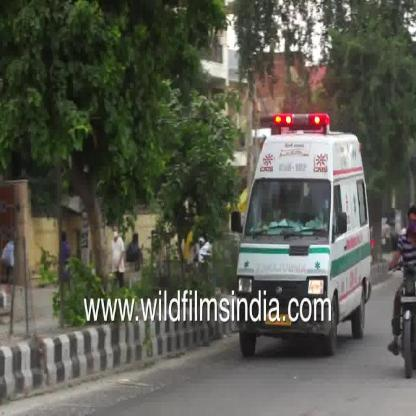priority: (217, 106, 384, 296), (229, 315, 378, 371)
